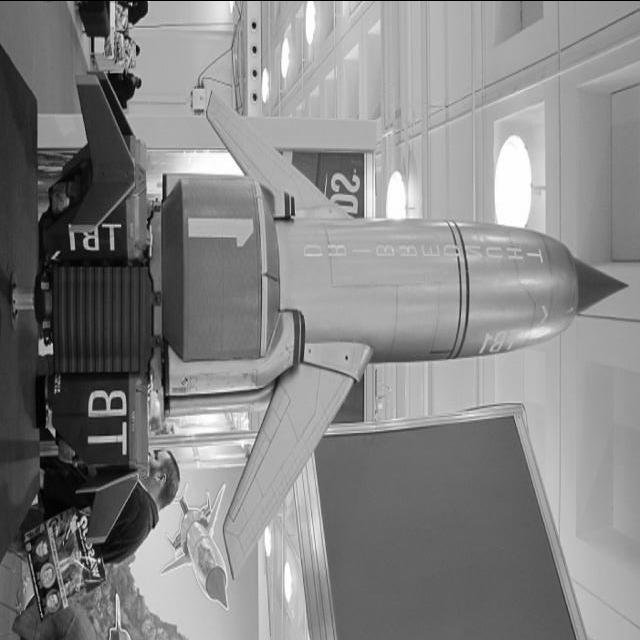missile: (271, 216, 629, 366)
